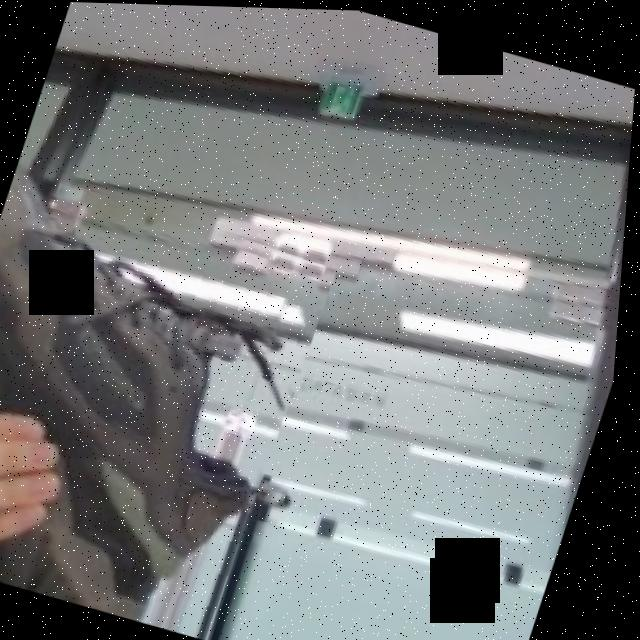shoe: (0, 162, 350, 640)
